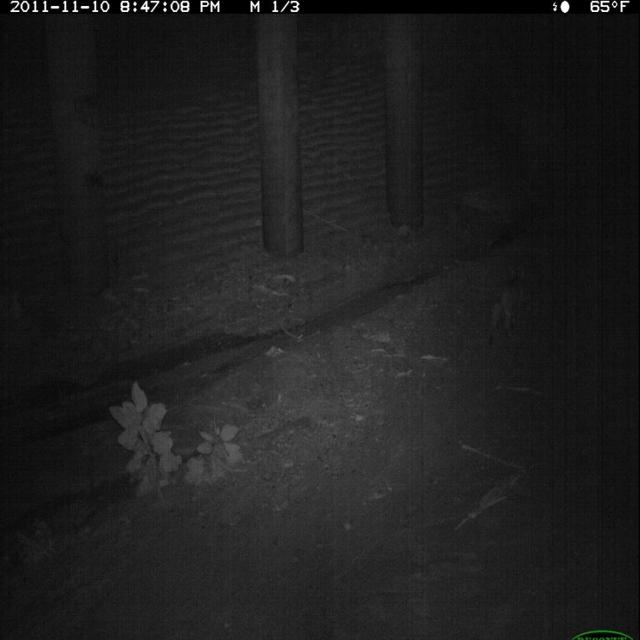bobcat: (484, 252, 530, 356)
